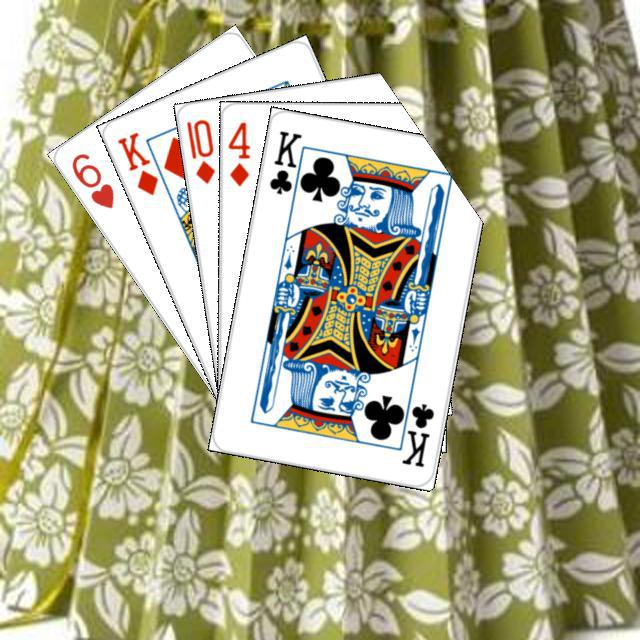10d: (181, 114, 217, 186)
4d: (224, 117, 252, 188)
6h: (66, 148, 116, 211)
Kc: (264, 125, 308, 206), (393, 389, 436, 469)
Kd: (112, 127, 160, 197)
